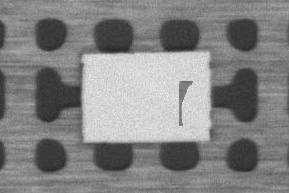DIE_INK: (179, 81, 193, 123)
